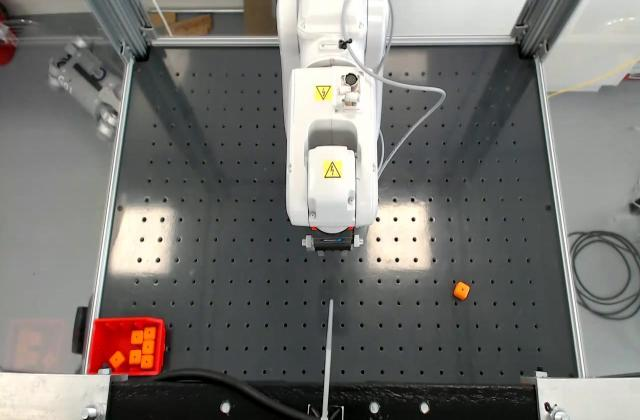cube: (452, 280, 470, 302)
